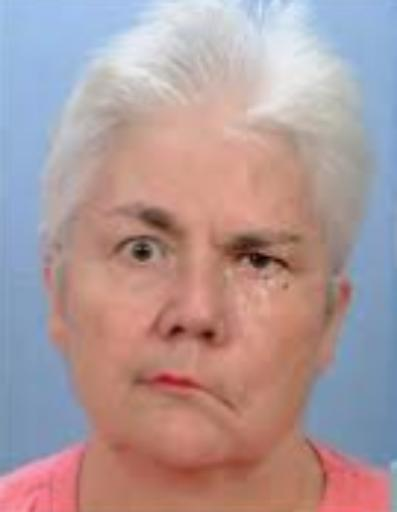left_eye: (227, 251, 293, 280)
left_lip_corner: (206, 384, 242, 419)
right_eye: (111, 236, 176, 268)
right_lip_corner: (127, 370, 154, 393)
